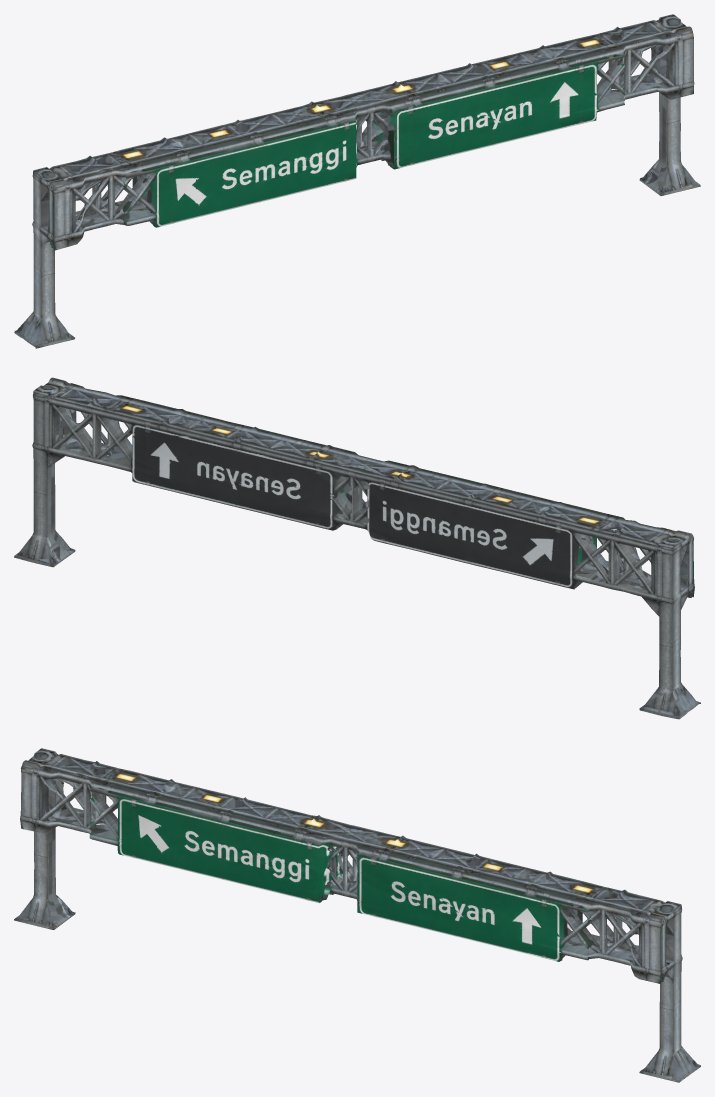
File: gantry-sign.glb
3 views of the same model, one above another, from view 1: azimuth 30°, elevation 25°; view 2: azimuth 150°, elevation 25°; view 3: azimuth 330°, elevation 25° (orthographic).
Visible parts, largest first — view 1: gantry-sign; view 2: gantry-sign; view 3: gantry-sign.
Part boxes in pixels (box(x1,y1,x2,y2)): gantry-sign: box(14, 14, 700, 348); gantry-sign: box(14, 377, 700, 719); gantry-sign: box(14, 748, 700, 1082).
Size of the model in its own units: 30 by 7.18 by 2.36.
1 material, 1 textured.
